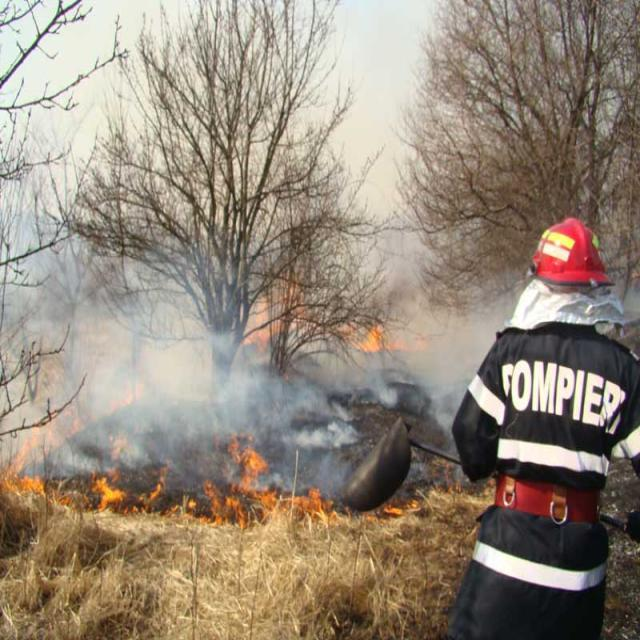Fire: (0, 456, 131, 527), (210, 430, 282, 522)
Smoke: (0, 251, 339, 496), (342, 260, 515, 428)
